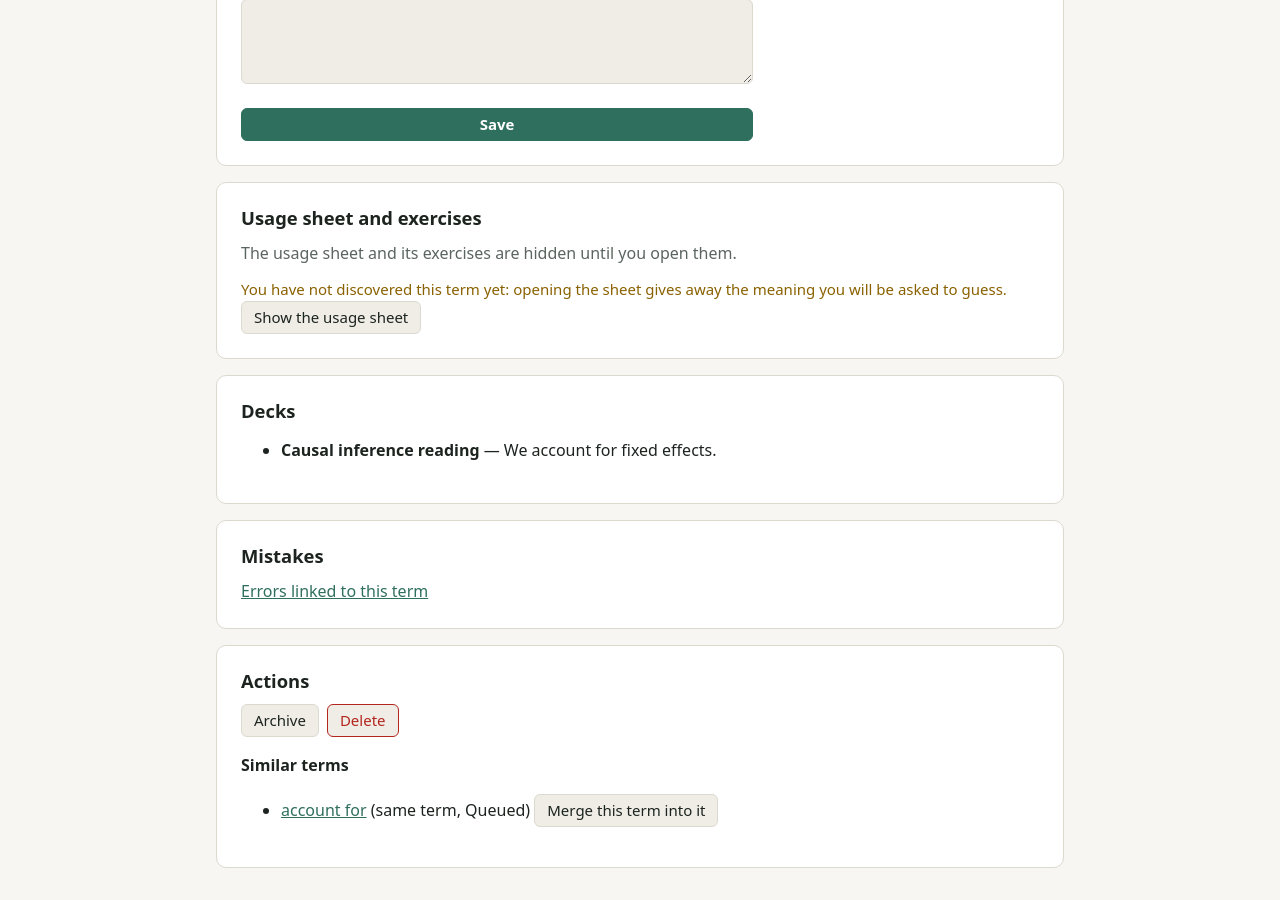
item page › refuses to delete a term with history and explains why
This screenshot has width=1280, height=900.
(page scrolled)
Click the button "Delete": click(363, 721) [327, 704, 398, 738]
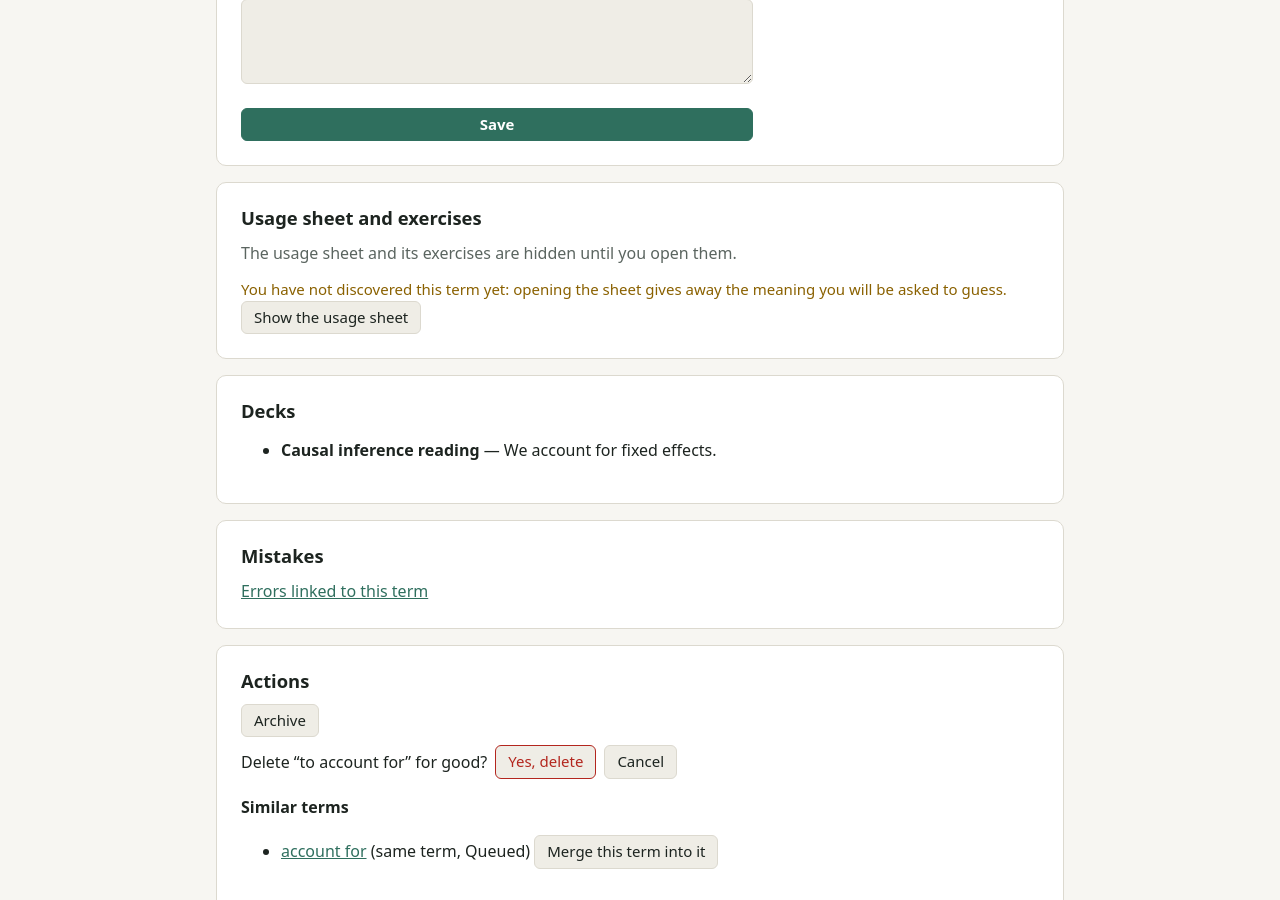
Click the button "Yes, delete": click(546, 762) [495, 745, 596, 779]
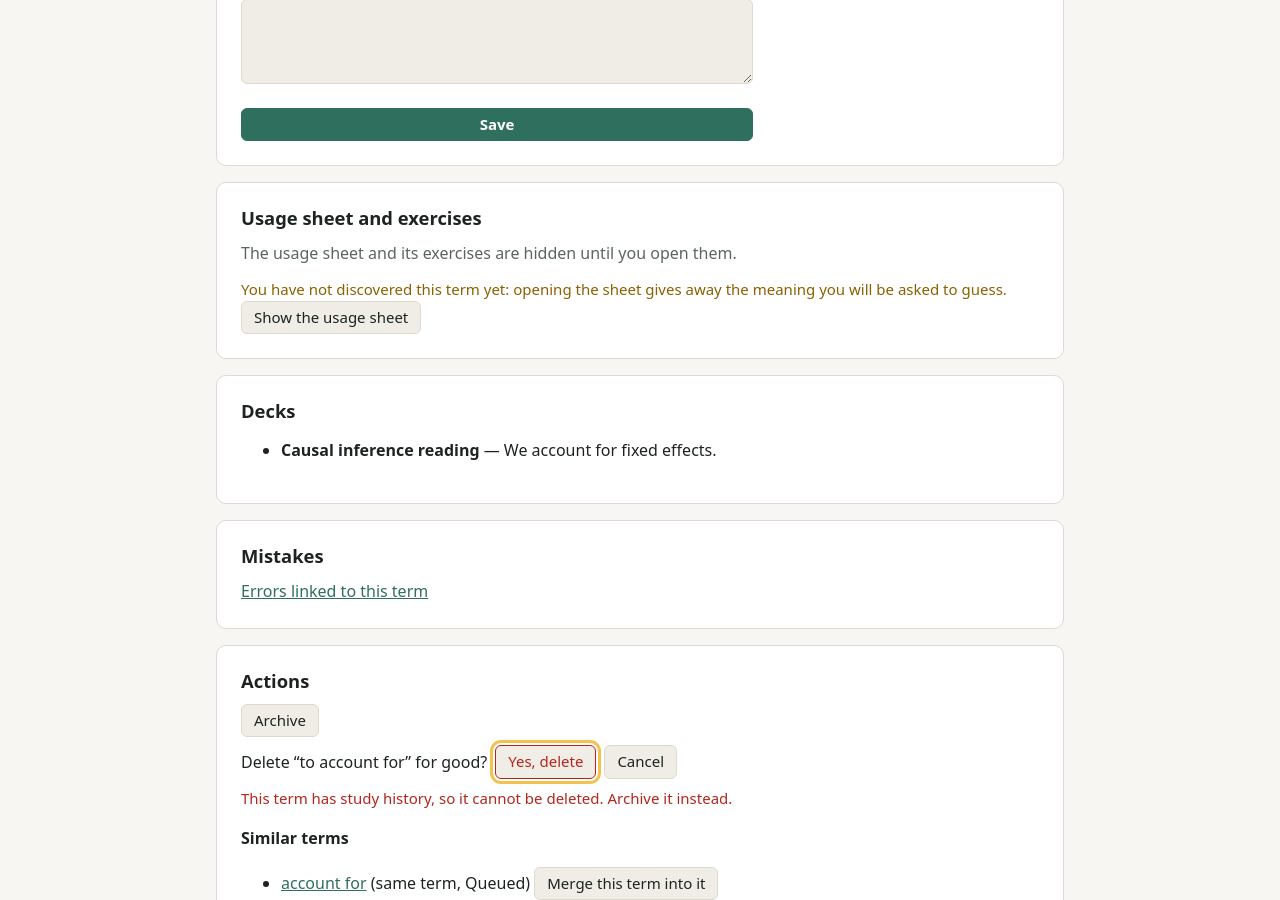
Now the text "study history" is shown, box [241, 788, 732, 808]
